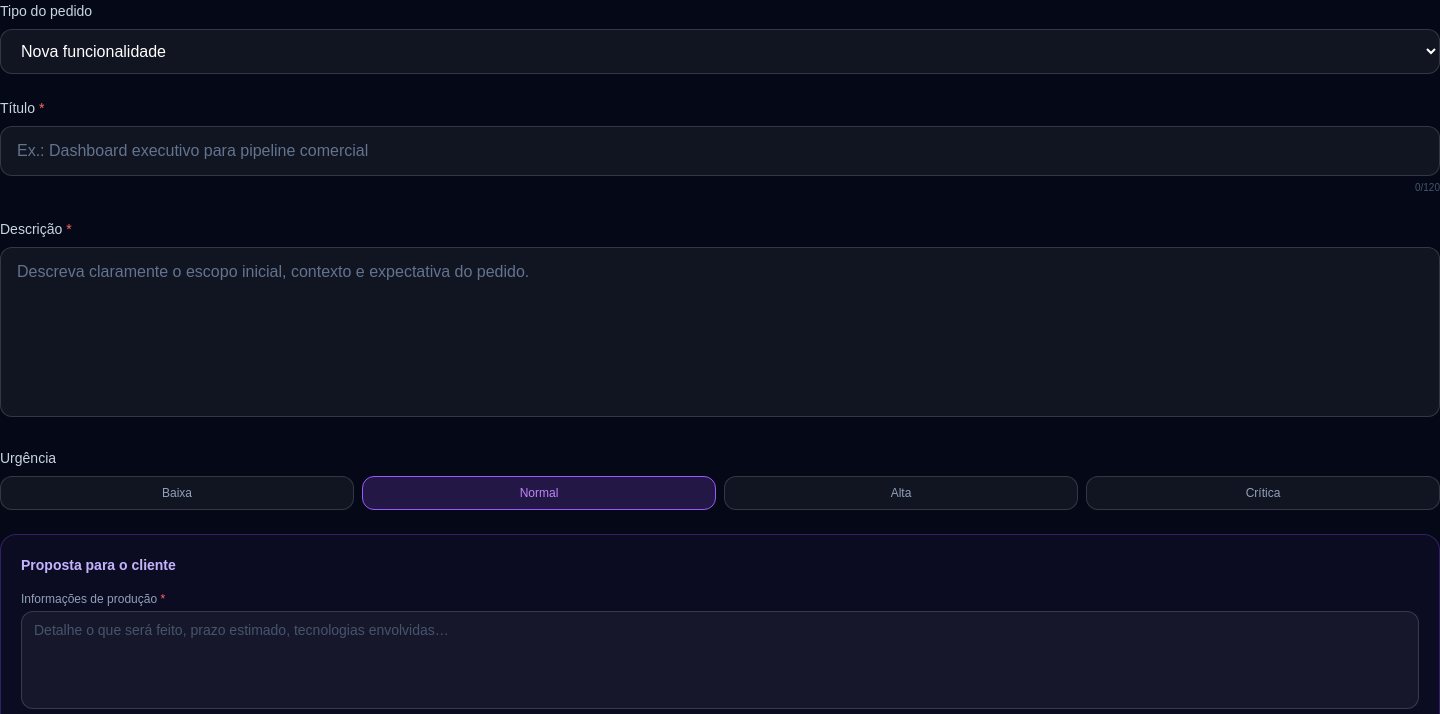
Test: AdminNewOrderForm › mostra erro de validacao quando productionInfo esta vazio
This screenshot has width=1440, height=714.
Type "Plataforma de vendas" into the field labelled "Título *" at (720, 151), box [0, 126, 1439, 176]
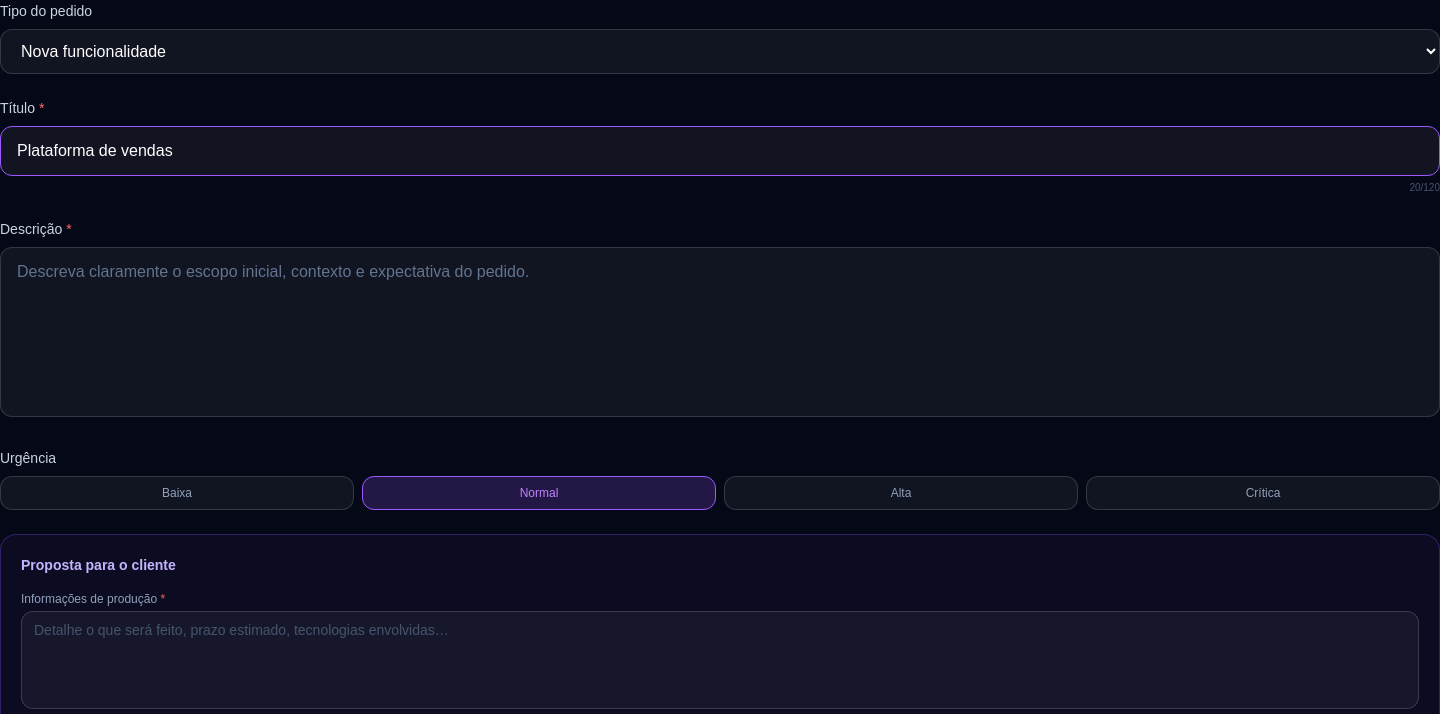
Type "Sistema B2B completo." into the text box labelled "Descrição *" at (720, 332), box [0, 247, 1439, 417]
(page scrolled)
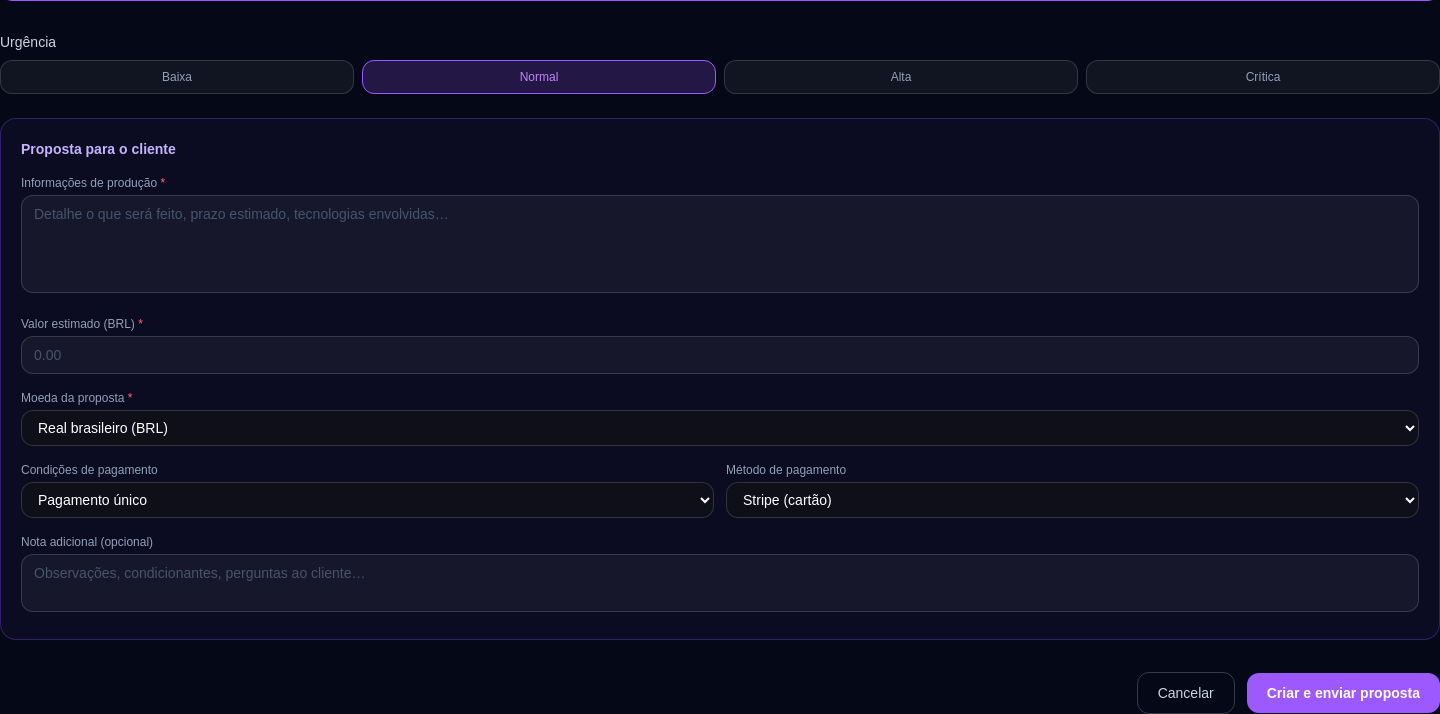
Click the button "Criar e enviar proposta" at (1343, 693), box [1247, 673, 1439, 713]
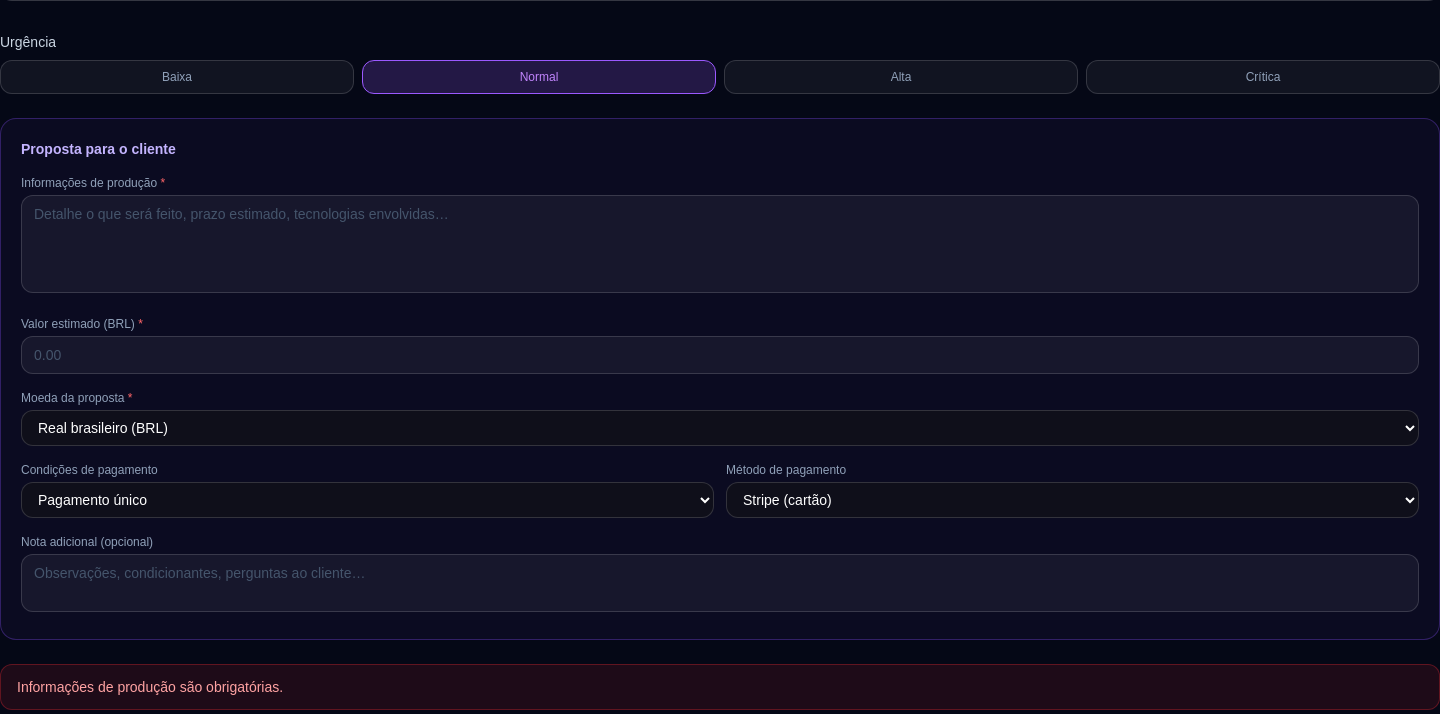
Expected: the text "Informações de produção são obrigatórias." is shown, [0, 664, 1439, 710]
